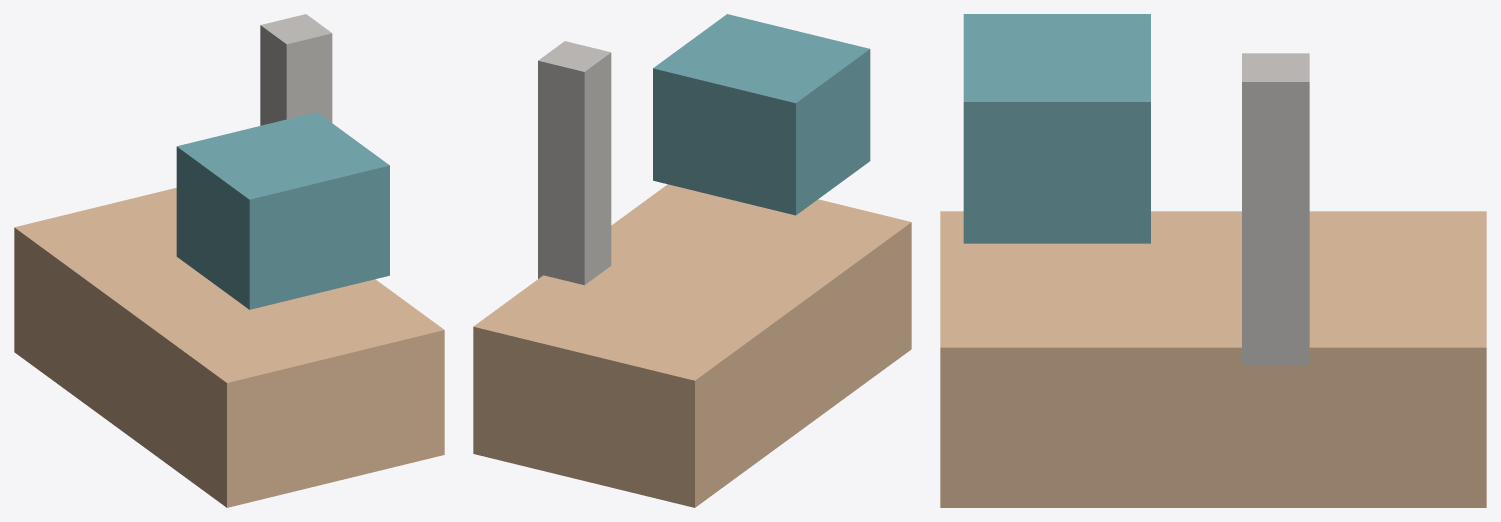
Rendered from excavator-arm.glb.
3 renders of one model, left to right at view 1: azimuth 30°, elevation 25°; view 2: azimuth 150°, elevation 25°; view 3: azimuth 270°, elevation 25°, orthographic. The views are drawn at different scales.
Parts seen in each view (by area): view 1: Body, Cab Glass, Hydraulics; view 2: Body, Cab Glass, Hydraulics; view 3: Body, Cab Glass, Hydraulics.
Part boxes in pixels (x1=…): Body: x1=14, y1=188, x2=444, y2=507; Cab Glass: x1=176, y1=112, x2=389, y2=309; Hydraulics: x1=260, y1=14, x2=332, y2=125; Body: x1=473, y1=184, x2=911, y2=507; Cab Glass: x1=653, y1=14, x2=870, y2=215; Hydraulics: x1=538, y1=41, x2=611, y2=285; Body: x1=940, y1=211, x2=1486, y2=507; Cab Glass: x1=963, y1=14, x2=1150, y2=243; Hydraulics: x1=1242, y1=53, x2=1309, y2=364.
Bounding box in the file's own units: 0.635 × 0.91 × 1.05.
